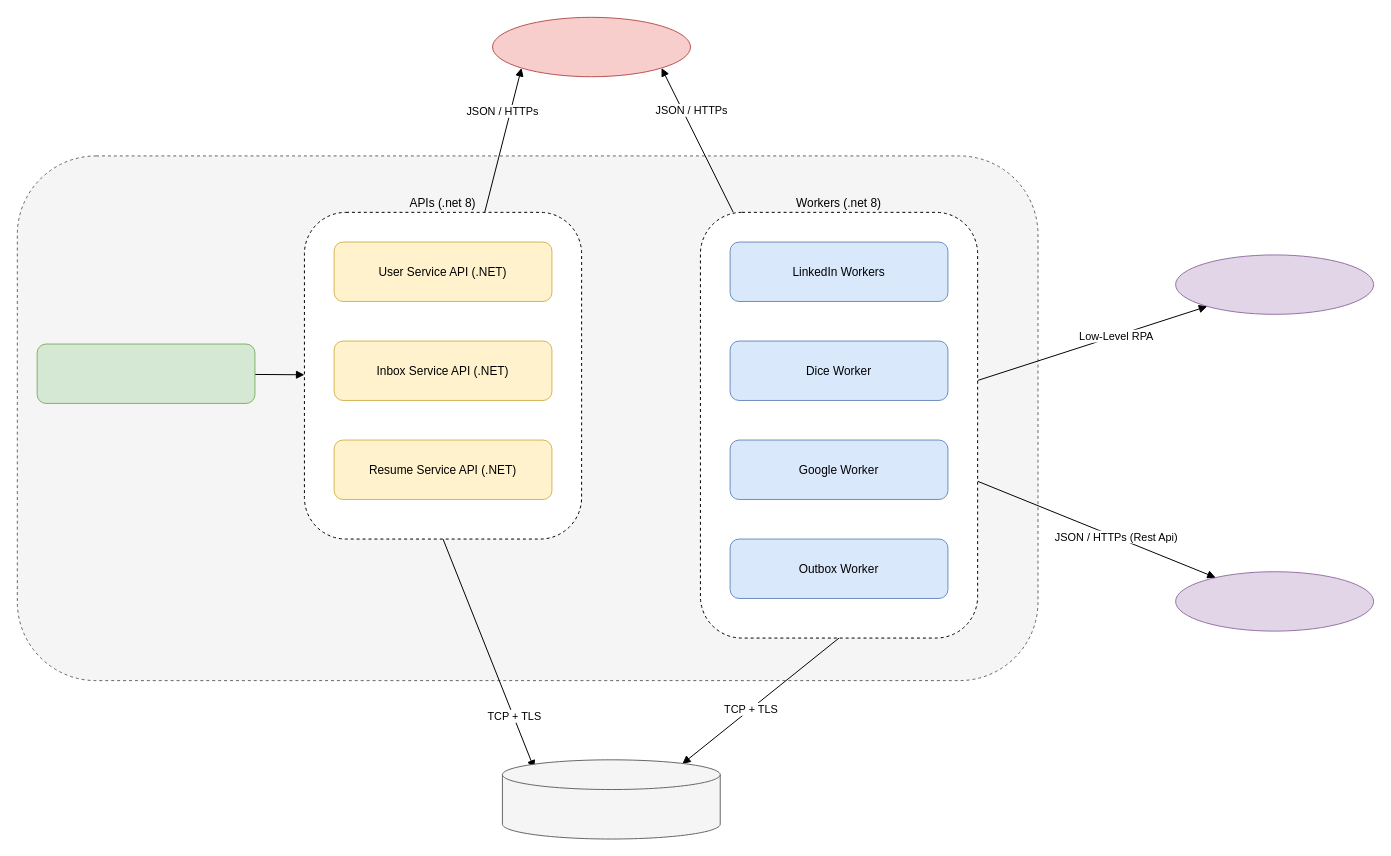
This 1391x856 diagram has some shape labels left out. The shapes that lost their labels are listed below. From the top down, each one's centre as x and y in pixels, then its label:
(591,46): OpenAI API
(1274,284): Job Boards (LinkedIn, Dice...)
(145,373): Web UI (Angular 18)
(1274,601): Email Providers (Gmail, Apple...)
(610,799): MongoDB (Cloud)
